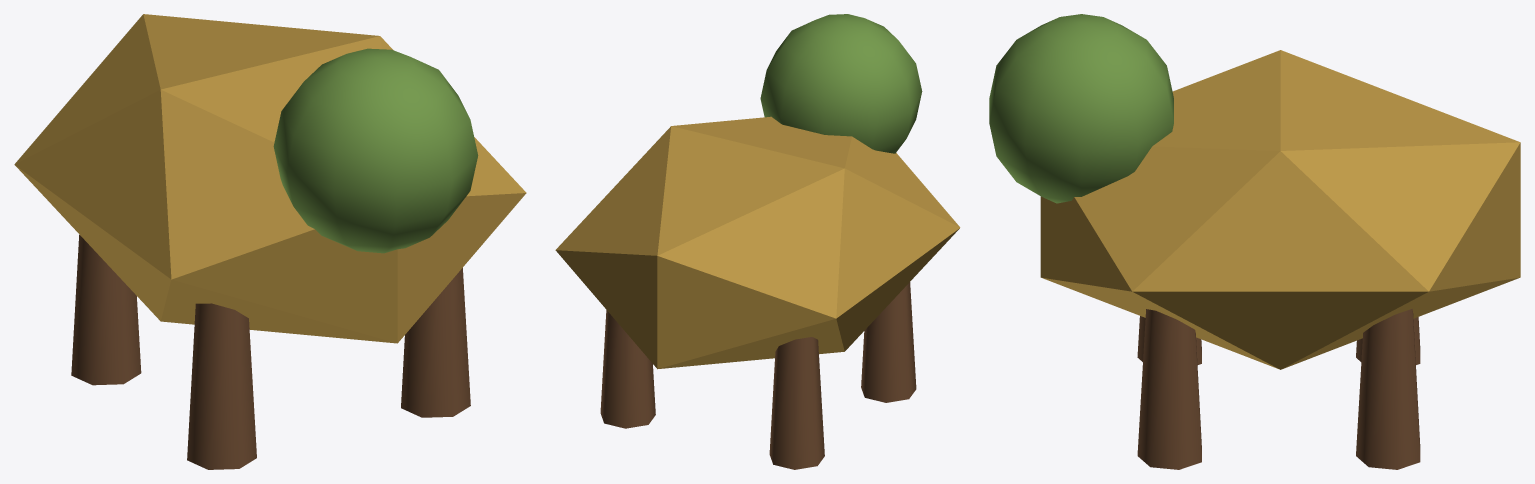
The model's file is burrow_mole.glb.
3 views of the same model, side by side, from view 1: azimuth 30°, elevation 25°; view 2: azimuth 150°, elevation 25°; view 3: azimuth 270°, elevation 25° (orthographic). The views are drawn at different scales.
Visible parts, largest first — view 1: body_core, head_core, leg_-1_1, leg_-1_-1, leg_1_1; view 2: body_core, head_core, leg_-1_-1, leg_-1_1, leg_1_-1; view 3: body_core, head_core, leg_1_1, leg_1_-1.
Boxes of the visible parts, left/top/right/bottom form: body_core: left=14, top=14, right=526, bottom=343; head_core: left=273, top=48, right=478, bottom=253; leg_-1_1: left=187, top=303, right=256, bottom=469; leg_-1_-1: left=71, top=234, right=141, bottom=385; leg_1_1: left=401, top=268, right=470, bottom=417; body_core: left=555, top=116, right=960, bottom=369; head_core: left=760, top=14, right=922, bottom=153; leg_-1_-1: left=769, top=337, right=824, bottom=469; leg_-1_1: left=861, top=282, right=916, bottom=402; leg_1_-1: left=600, top=310, right=655, bottom=428; body_core: left=1040, top=50, right=1520, bottom=369; head_core: left=989, top=14, right=1173, bottom=203; leg_1_1: left=1137, top=309, right=1201, bottom=469; leg_1_-1: left=1356, top=309, right=1420, bottom=469.
Size of what is drawn, in the model's own units: 1.59 by 1.75 by 2.19.
